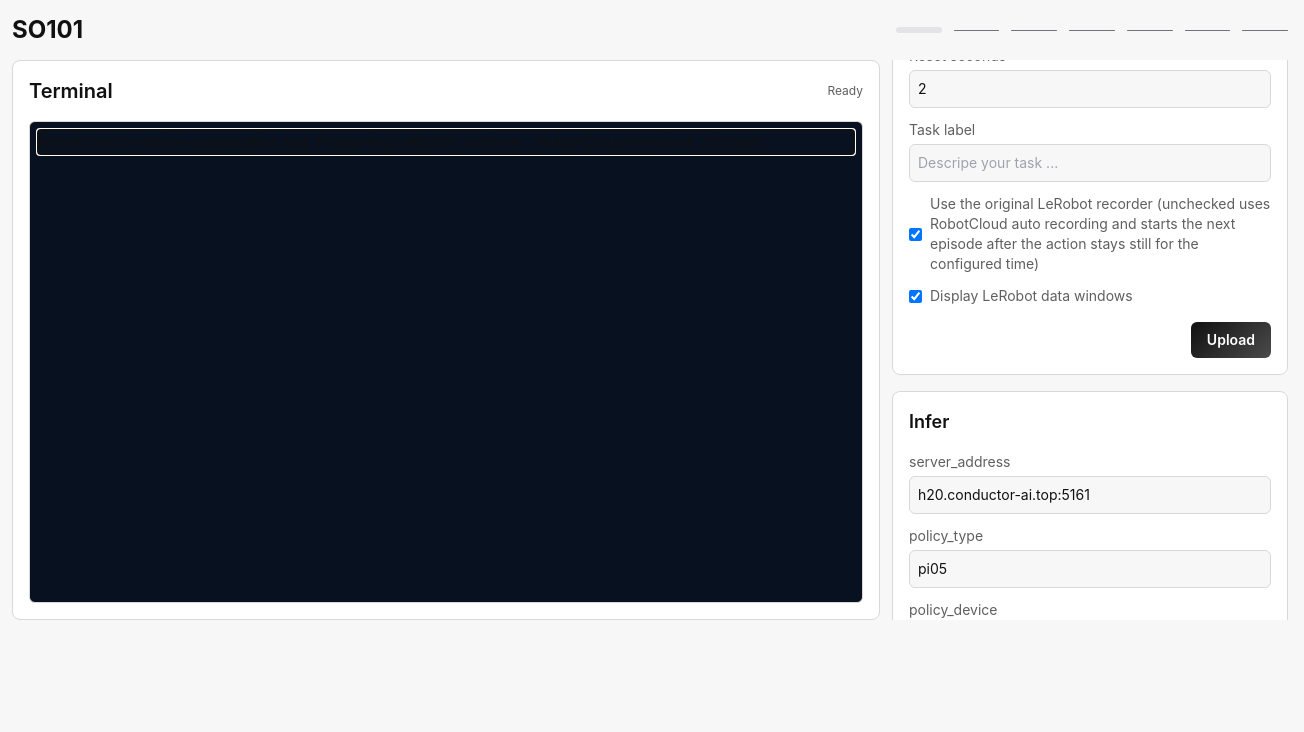
Scenario: SO101 terminal session › shows terminal upload errors without invoking the blocking prepare bridge
(page scrolled)
Expected: the text with test id "mock-xterm" shows "RobotCloud terminal: /bin/zsh", [38, 132, 762, 152]
Click the button "Upload" at (1231, 340), box [1191, 322, 1271, 358]
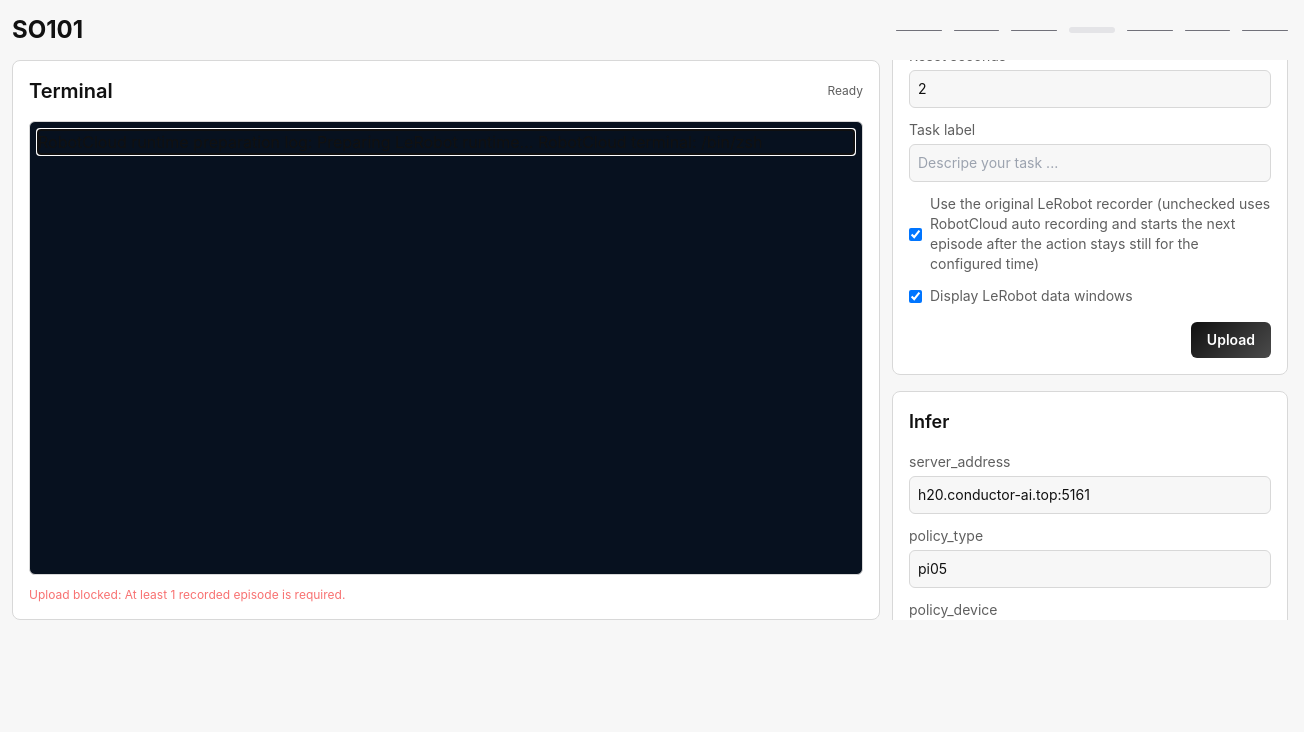
Now the text "Upload blocked: At least 1 recorded episode is required." is shown, box [29, 587, 345, 602]
